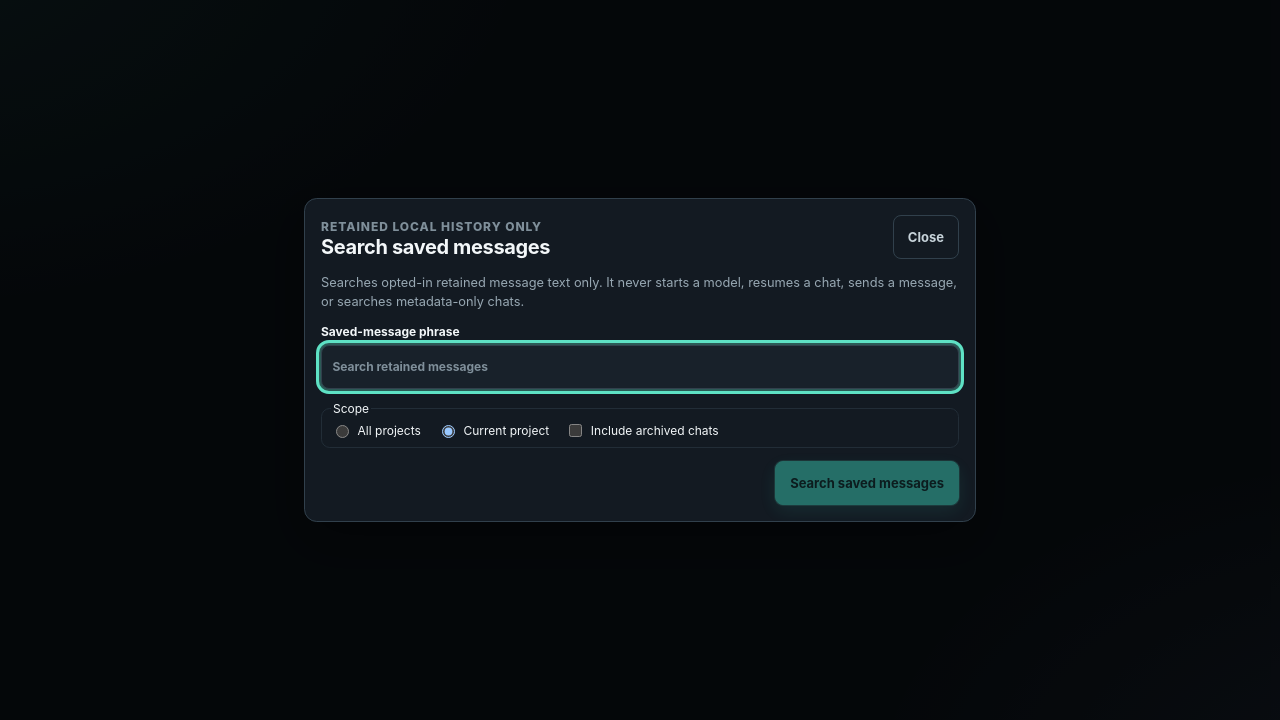
Test: AgentMessageSearchDialog › submits an explicit trimmed local query and renders plaintext result text
This screenshot has width=1280, height=720.
Step 1. Type "  synthetic phrase  " into the search field → (640, 367), box x1=321 y1=345 x2=959 y2=389
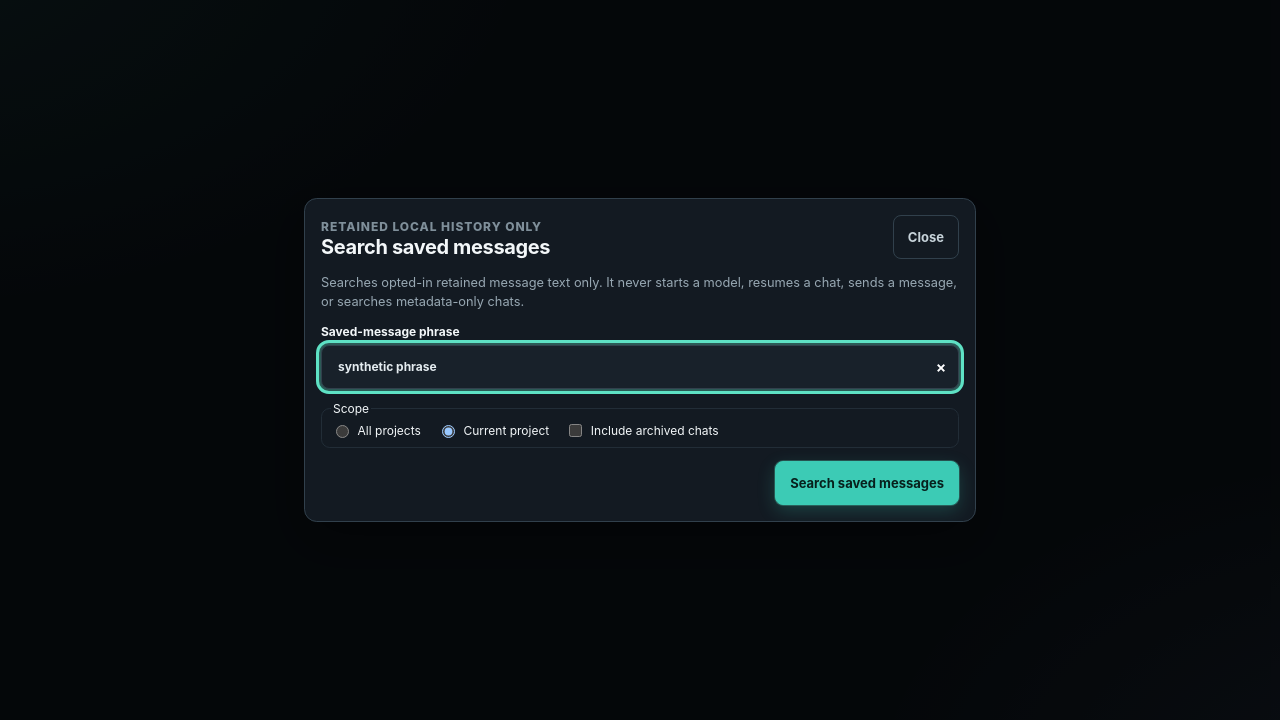
Step 2. Click the button "Search saved messages" → (867, 483), box x1=775 y1=461 x2=959 y2=505
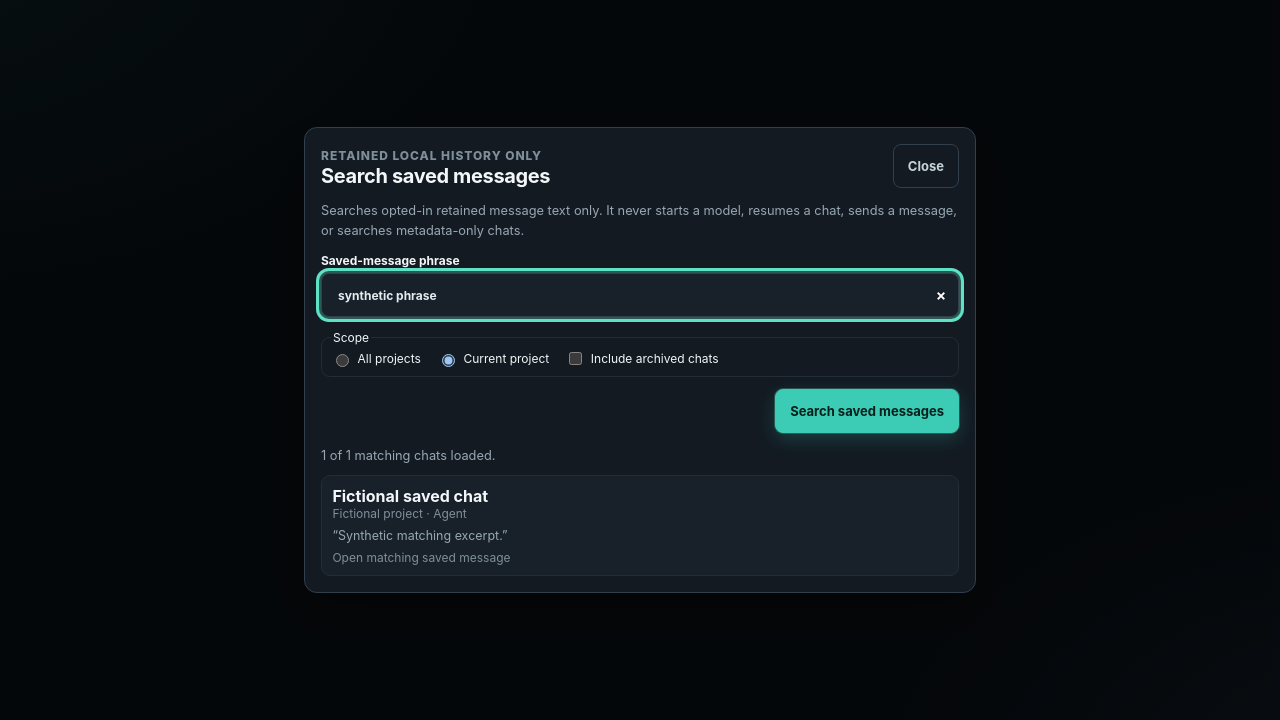
expect the dialog "Search saved messages" is shown: met, box x1=304 y1=127 x2=976 y2=594
expect the text "Synthetic matching excerpt." is shown: met, box x1=338 y1=528 x2=502 y2=543
